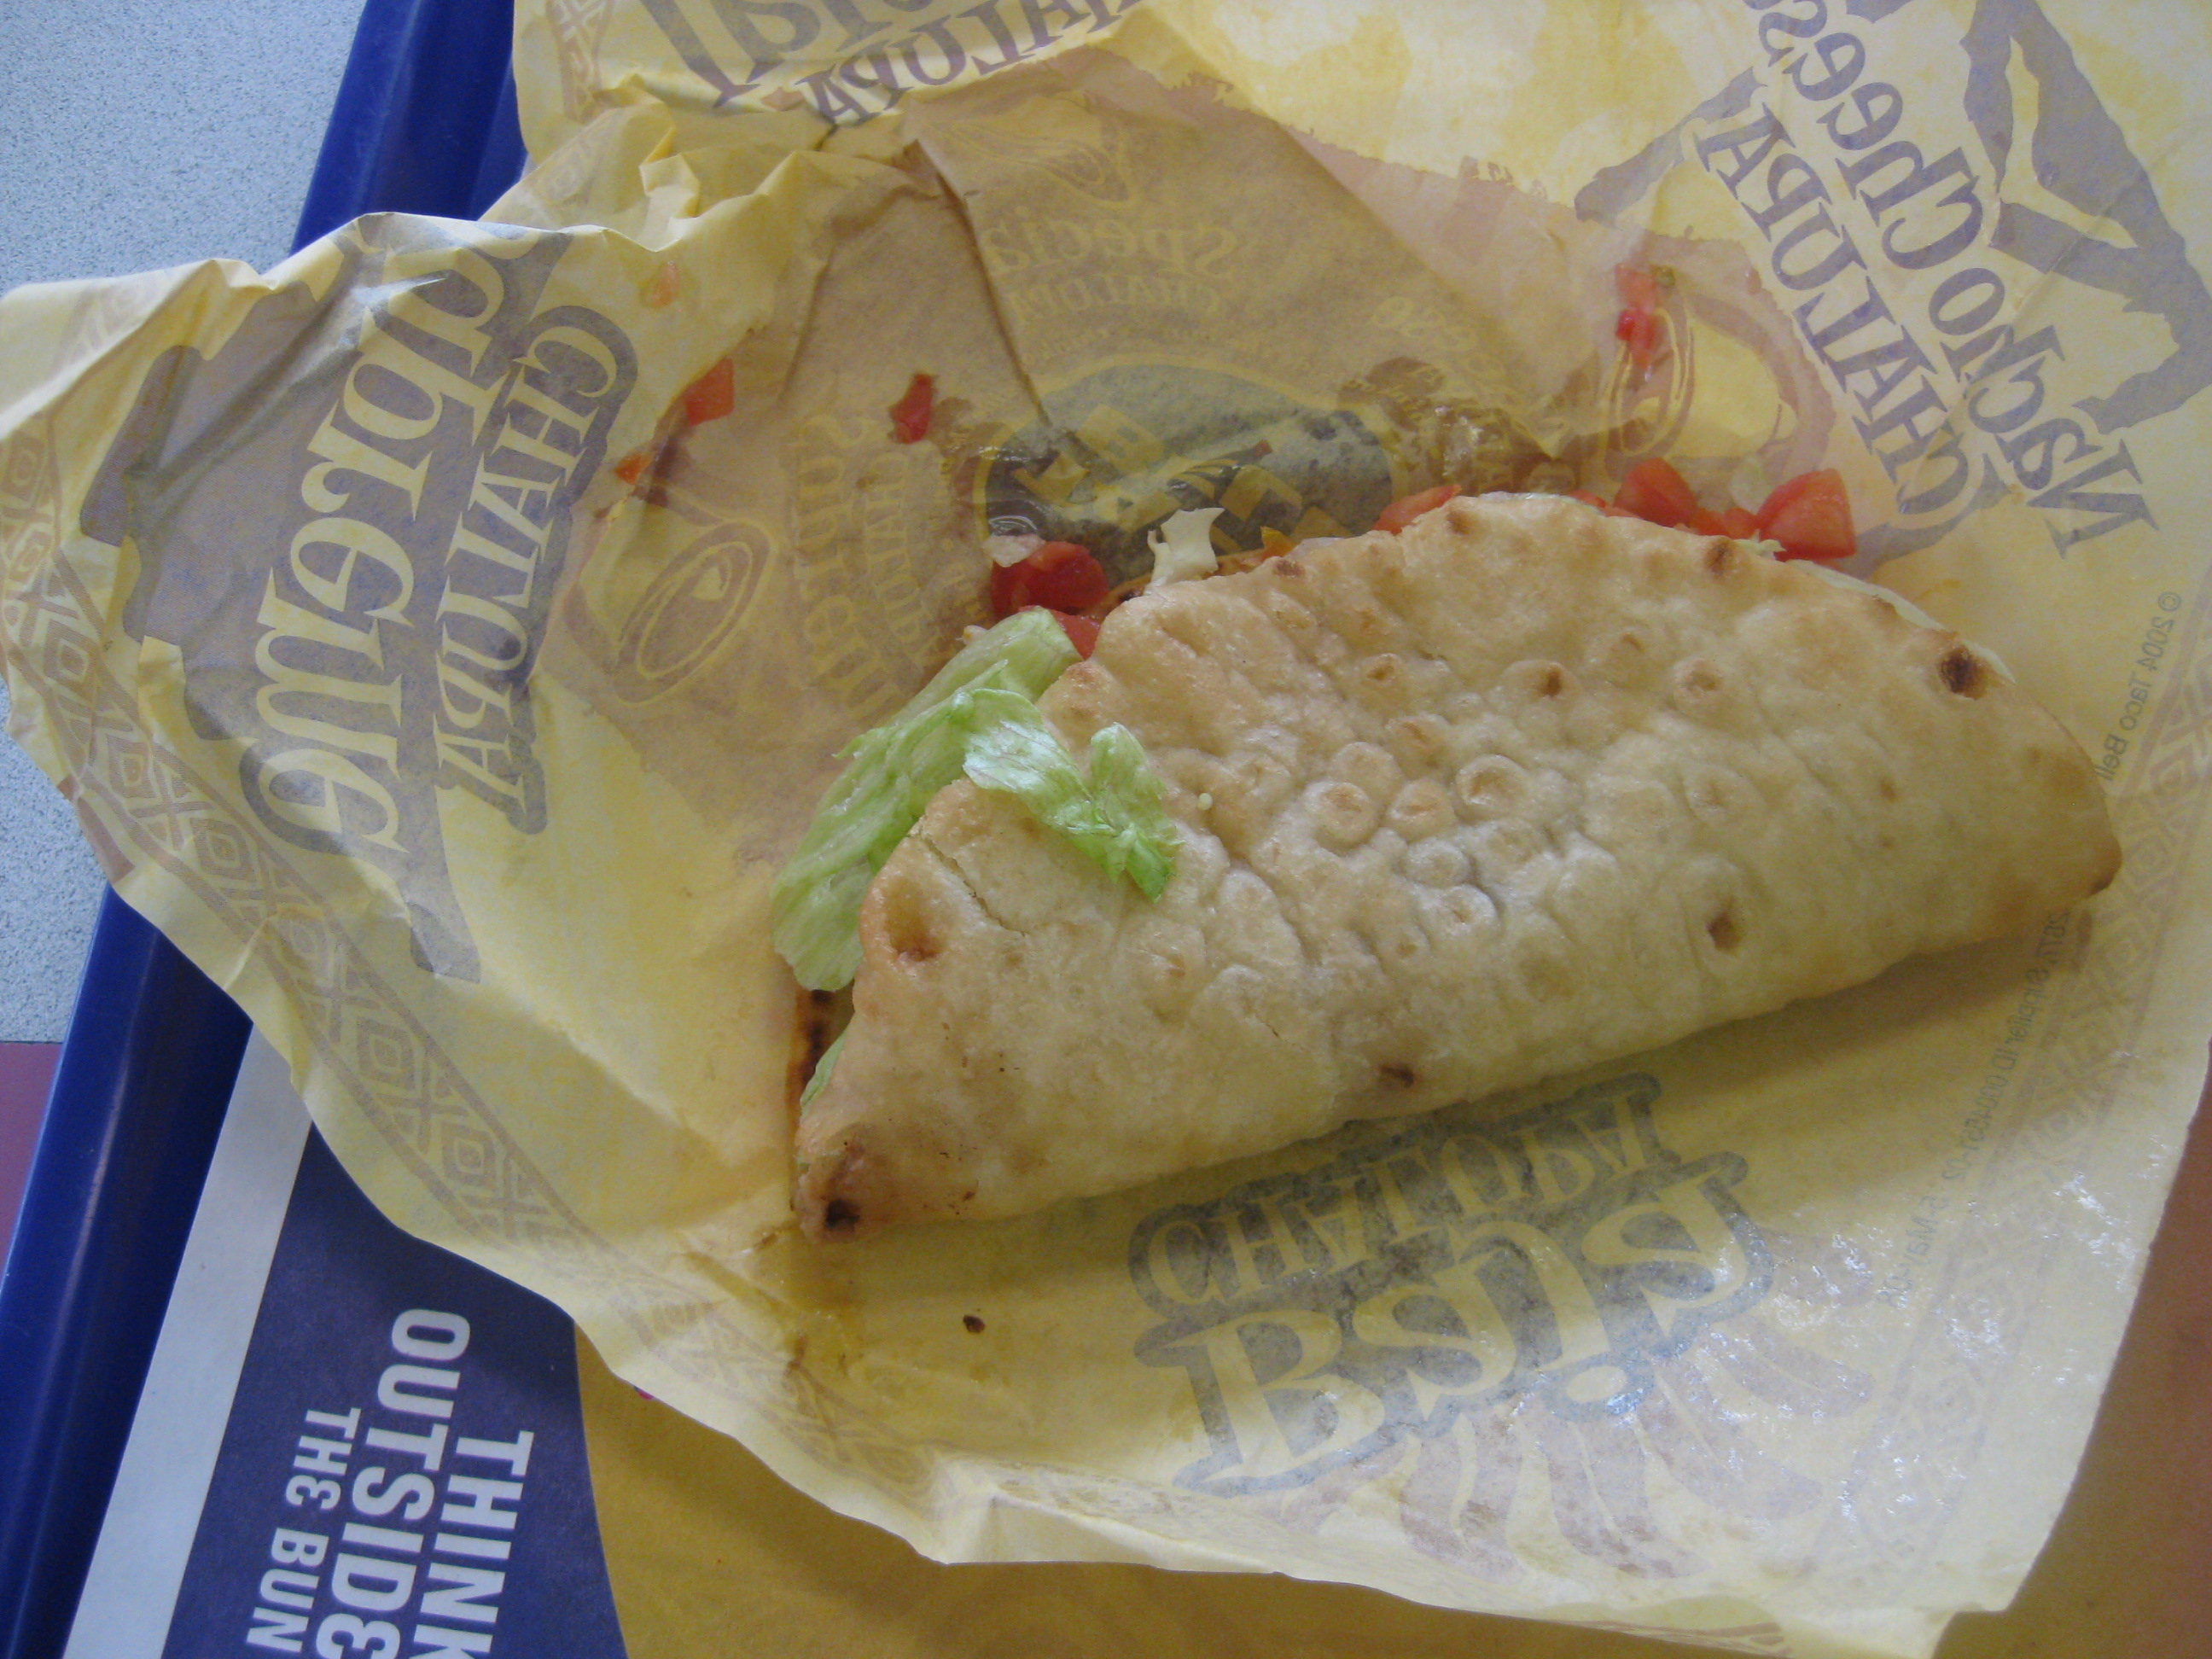taco: (765, 288, 2137, 1284)
